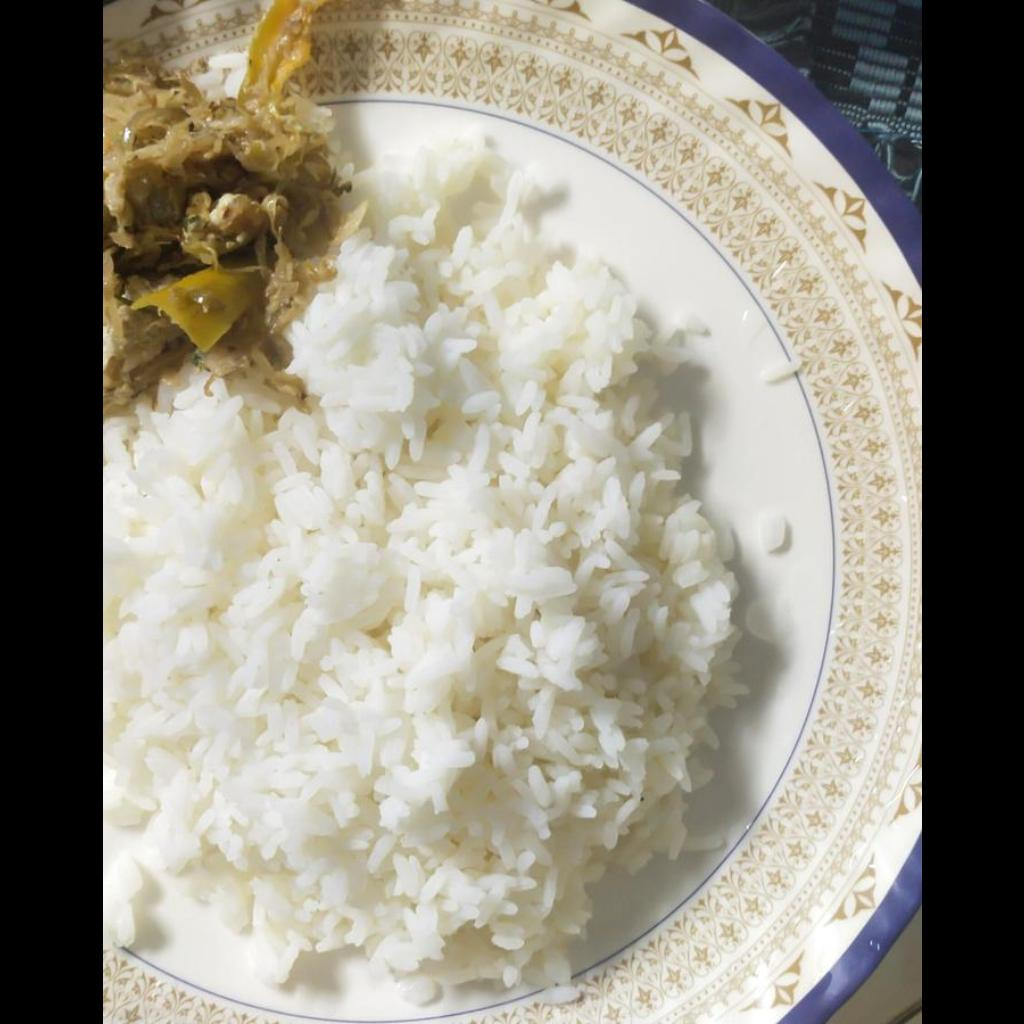chicken: (102, 0, 340, 409)
rice: (102, 128, 748, 1005)
